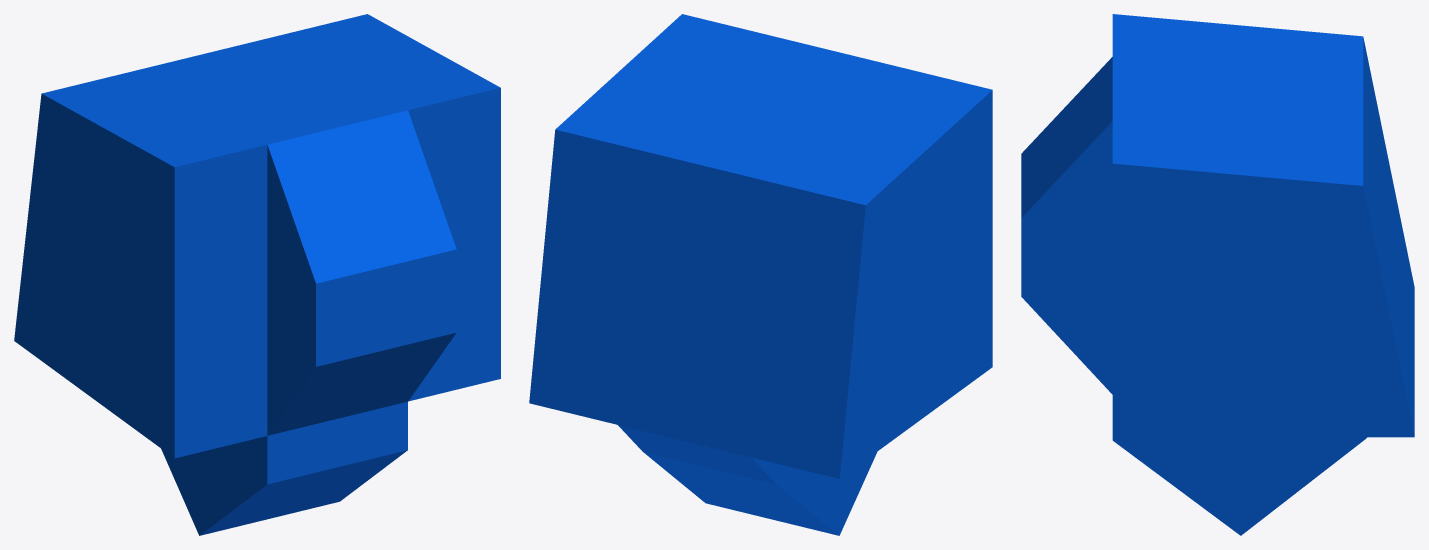
The model's file is player.glb.
The picture shows the model from 3 angles, left to right: view 1: azimuth 30°, elevation 25°; view 2: azimuth 150°, elevation 25°; view 3: azimuth 270°, elevation 25°; orthographic projection. The views are drawn at different scales.
Visible parts, largest first — view 1: Player; view 2: Player; view 3: Player.
Boxes of the visible parts, <box> form: Player: <box>14,14,500,535</box>; Player: <box>529,14,992,535</box>; Player: <box>1021,14,1414,535</box>.
Size of the model in its own units: 2.34 by 3.03 by 2.61.
